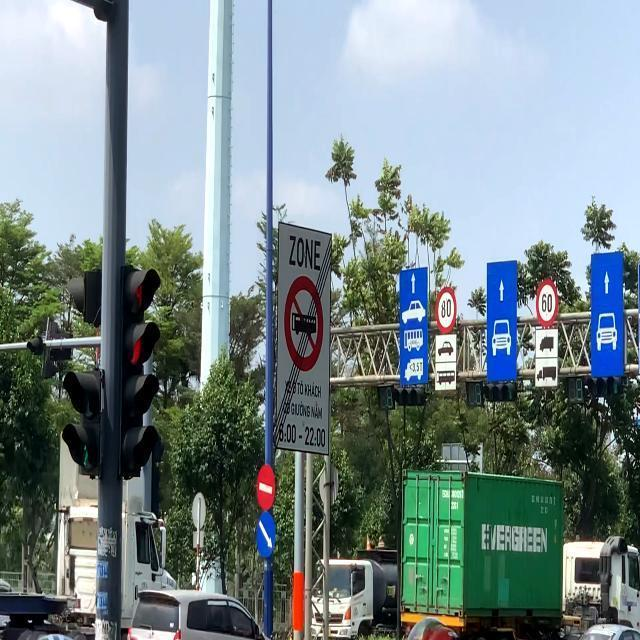102-cam-di-nguoc-chieu: (256, 466, 276, 510)
127-toc-do-toi-da-60: (534, 280, 560, 326)
127-toc-do-toi-da-80: (434, 288, 459, 330)
302a-huong-phai-di-vong-chuong-ngai-vat-1: (255, 510, 277, 558)
